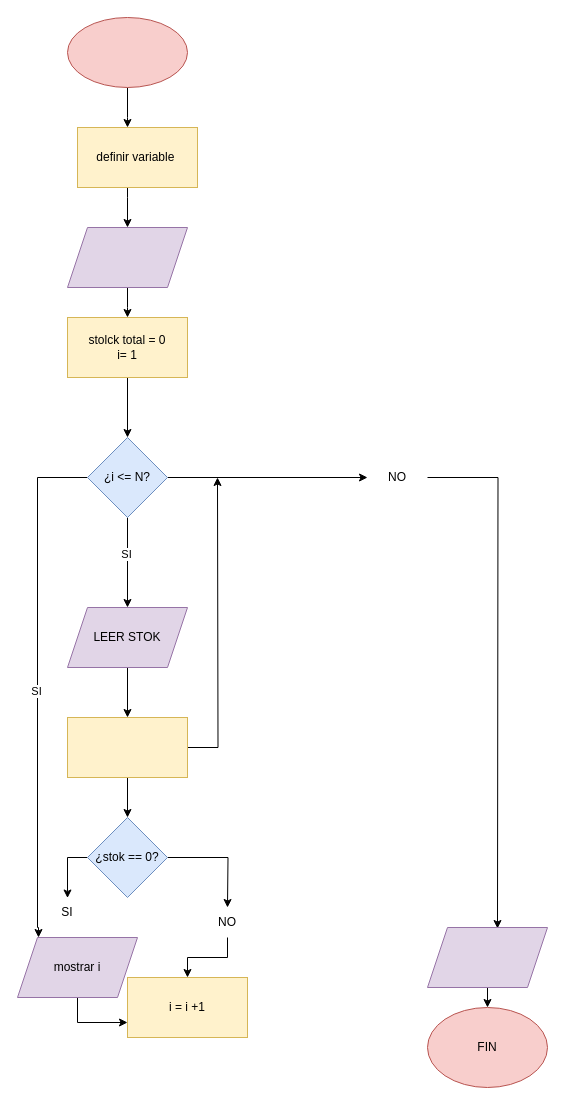
Image size: 565x1105. Some labels were removed from this diagram. The centre of each missing label's shape, as x and y in pixels:
"i= i +1" belongs at (x=127, y=747).
"INICIO" belongs at (x=127, y=52).
"mostrar stock total" belongs at (x=487, y=957).
"pedir y leer N" belongs at (x=127, y=257).
